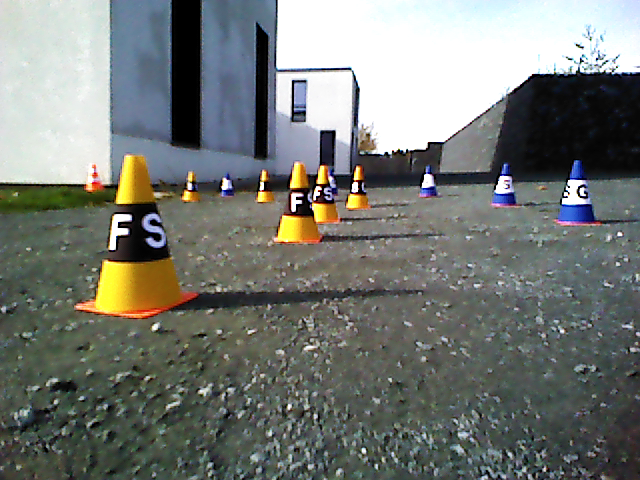bluecone: (97, 155, 176, 308), (278, 162, 318, 239), (560, 161, 594, 221), (314, 166, 337, 220), (493, 164, 517, 204), (348, 166, 369, 206), (420, 164, 437, 195), (258, 170, 274, 200), (184, 172, 199, 200), (220, 172, 235, 196)
orangeconesmall: (86, 165, 102, 191)
